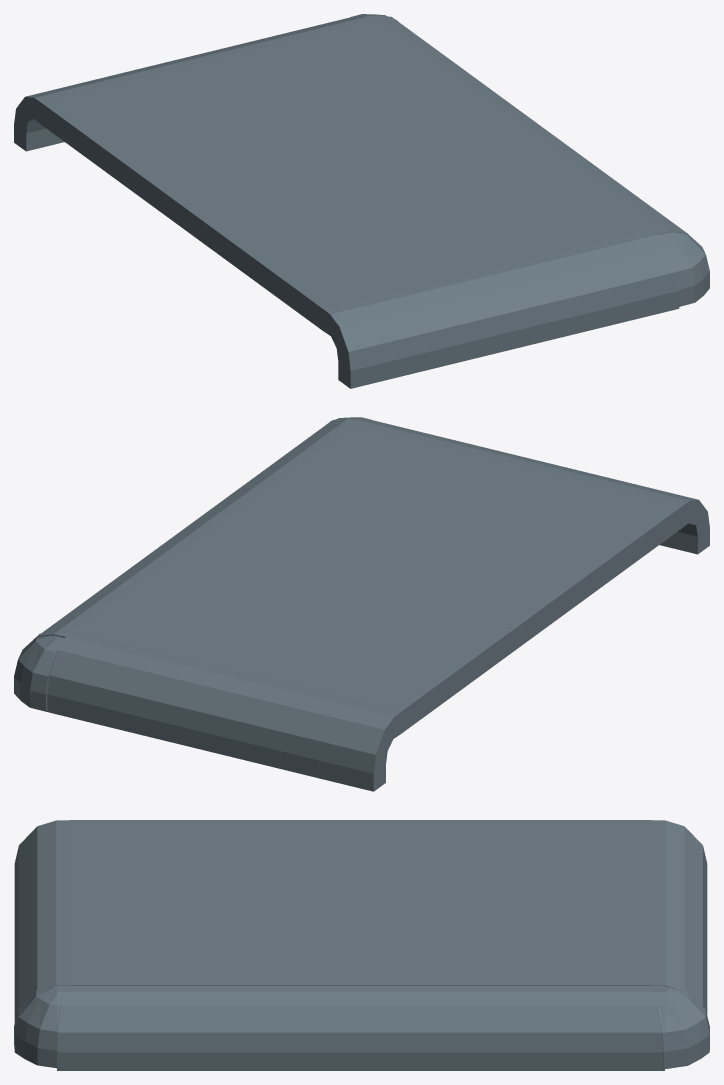
Rendered from Roof flat curvy edge.fbx.
3 renders of one model, top to bottom at view 1: azimuth 30°, elevation 25°; view 2: azimuth 150°, elevation 25°; view 3: azimuth 270°, elevation 25°, orthographic. The views are drawn at different scales.
Visible parts, largest first — view 1: pCube346; view 2: pCube346; view 3: pCube346.
Part boxes in pixels (x1=…): pCube346: x1=14, y1=14, x2=709, y2=388; pCube346: x1=14, y1=417, x2=709, y2=791; pCube346: x1=14, y1=820, x2=709, y2=1070.
Bounding box in the file's own units: 159 × 24.3 × 248.
